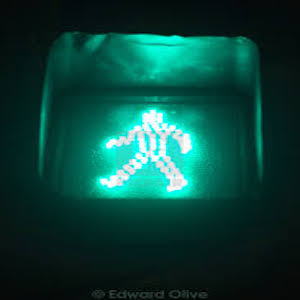green: (88, 106, 203, 196)
